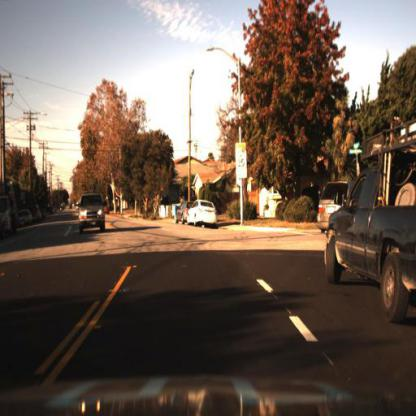car: (318, 180, 359, 238), (78, 192, 109, 232), (187, 199, 216, 233), (175, 197, 190, 228), (35, 203, 44, 225), (103, 203, 115, 217)
truck: (325, 115, 416, 327), (1, 184, 19, 243)
